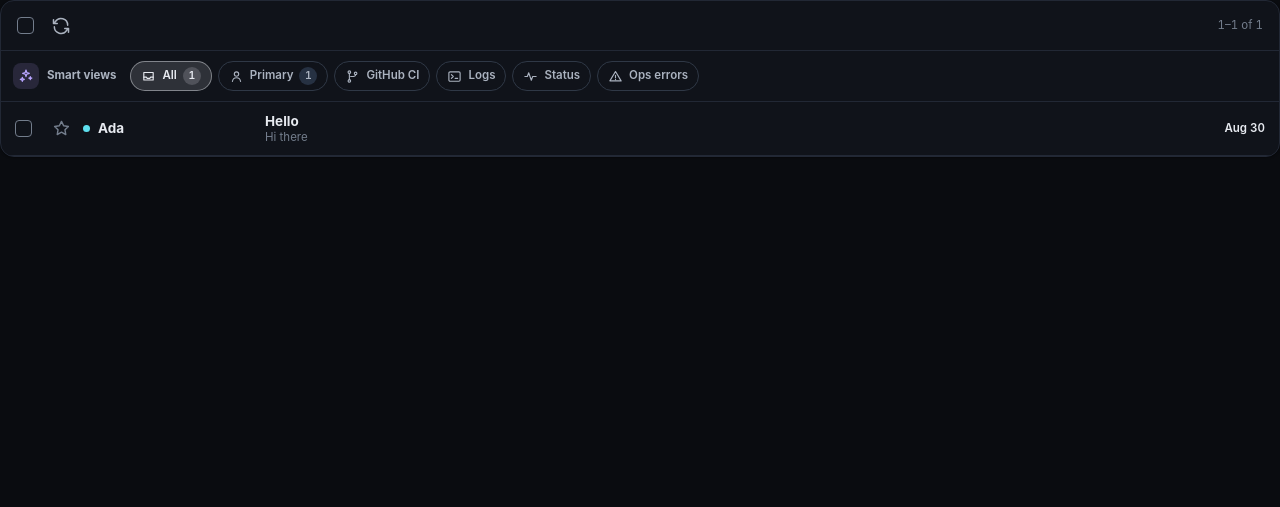
Test: MailList › opens a context menu on a row and routes actions through the list callbacks
The width and height of the screenshot is (1280, 507).
Later steps or results of the test are not shown.
Right-click the button "Ada Hello Hi there Aug 30" at [282, 120], box [1, 102, 1279, 156]
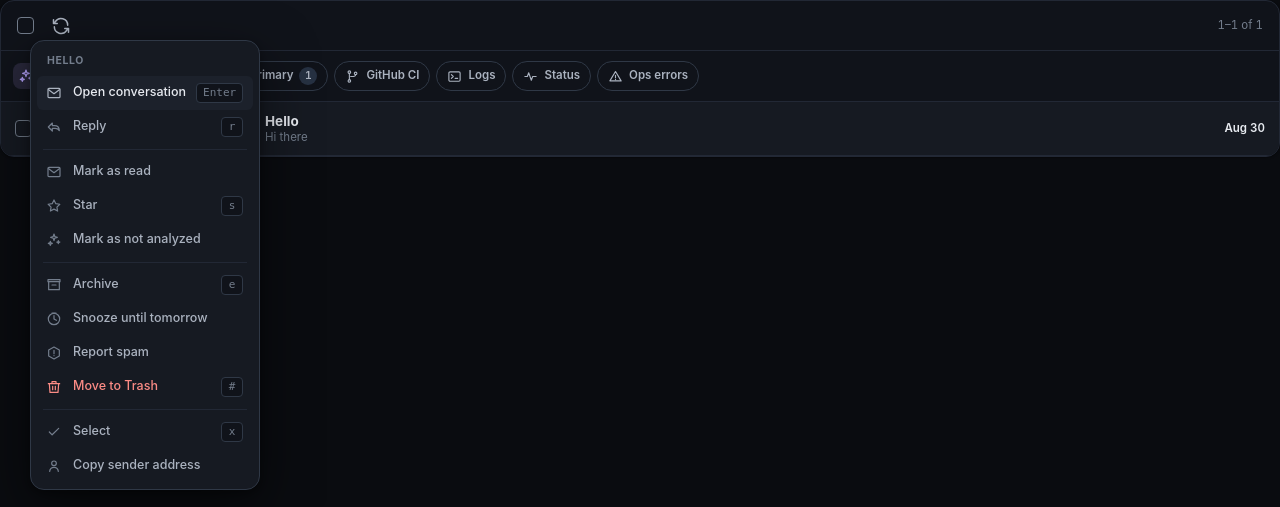
Check: the menu named "Actions for Hello" is shown, box [30, 40, 260, 490]
Check: the menu item "Mark as read" is shown, box [37, 155, 253, 189]
Click the menu item "Archive e" at [145, 285], box [37, 268, 253, 302]
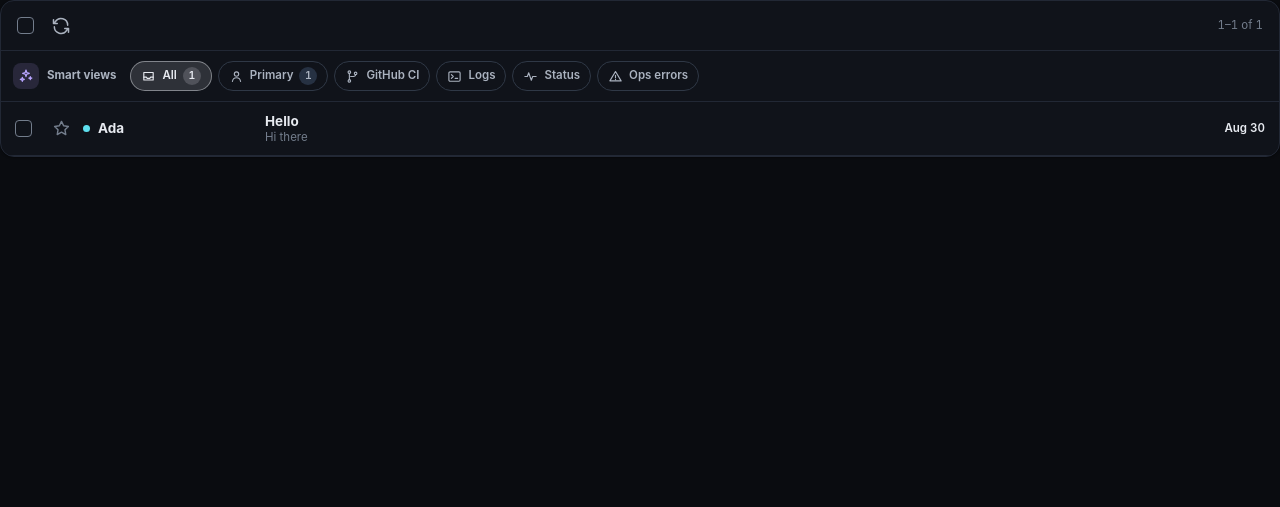
Check: the menu is gone
